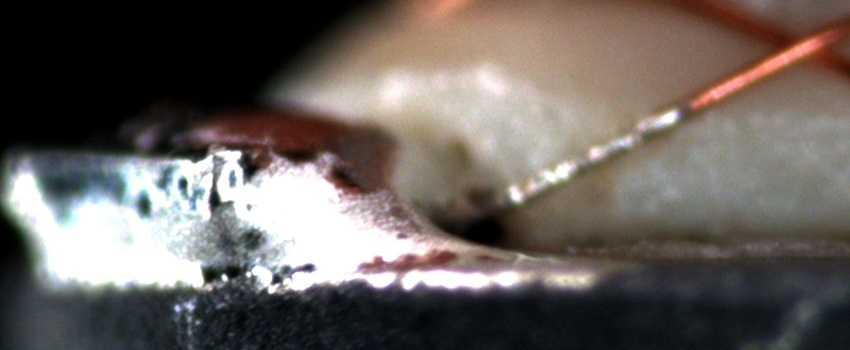CL: (751, 14, 839, 78)
TS: (439, 98, 686, 229)
TTCW: (471, 68, 753, 218)
